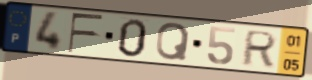0: (116, 18, 150, 60)
4: (32, 9, 66, 53)
5: (206, 25, 238, 67)
F: (66, 12, 106, 55)
Q: (154, 21, 192, 62)
R: (239, 29, 280, 68)
